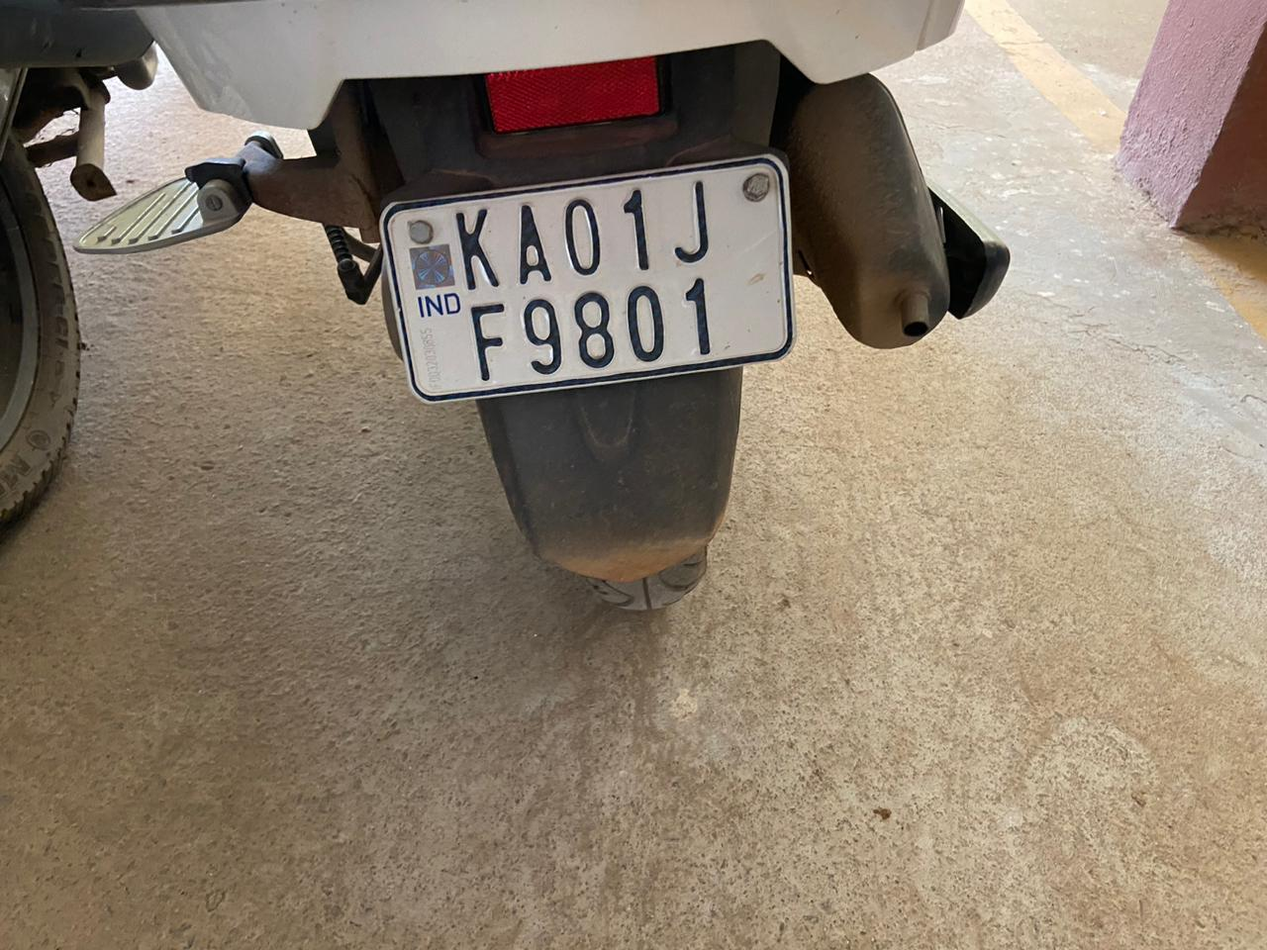0: (557, 186, 612, 291), (622, 272, 669, 375)
1: (620, 179, 666, 280), (679, 270, 718, 369)
8: (569, 279, 615, 375)
9: (513, 287, 568, 387)
A: (507, 190, 558, 290)
F: (456, 291, 513, 391)
J: (664, 169, 714, 268)
K: (446, 192, 508, 298)
